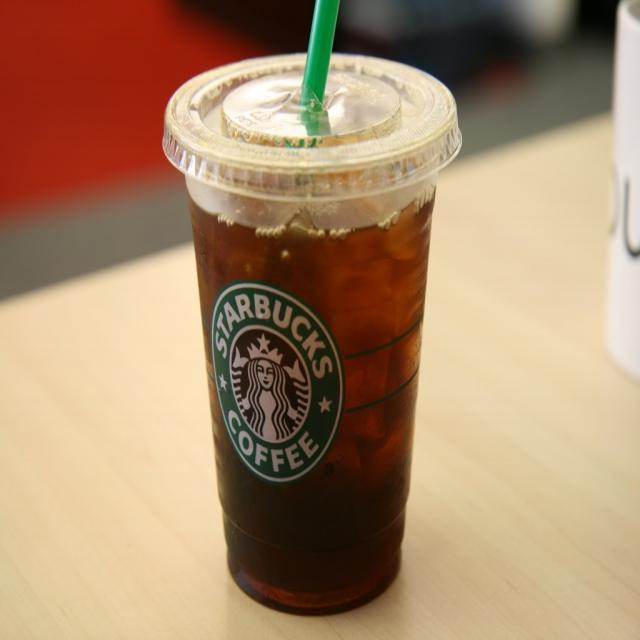Coffee: (172, 36, 450, 629)
